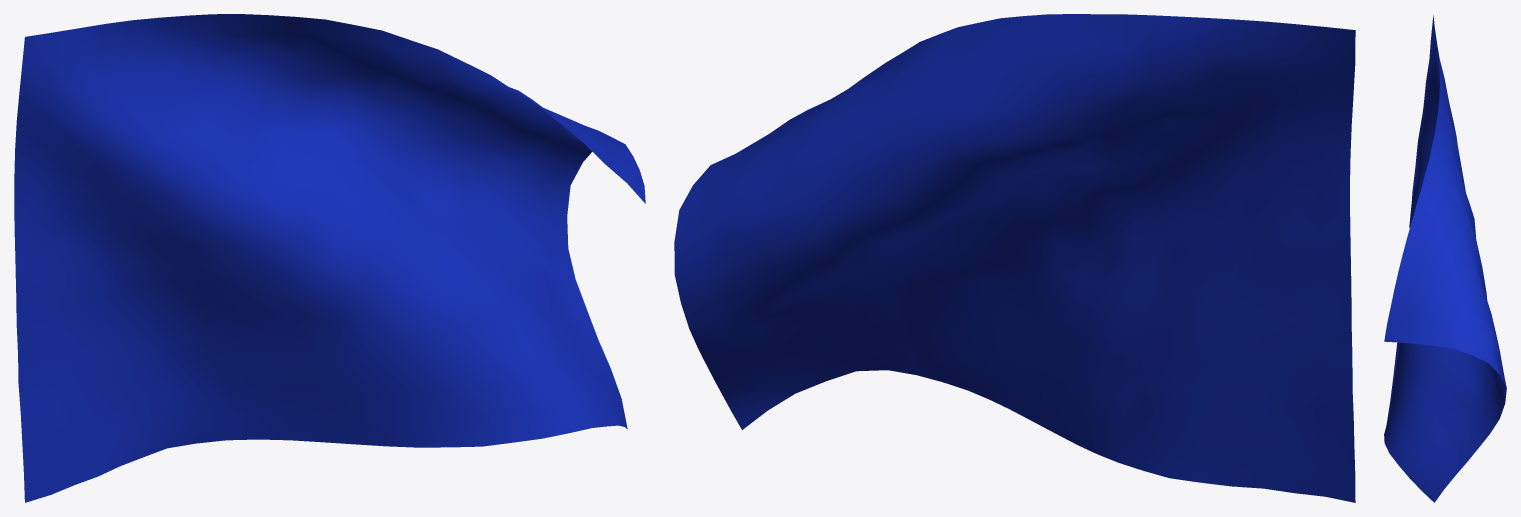
3 views of the same model, side by side, from view 1: azimuth 30°, elevation 25°; view 2: azimuth 150°, elevation 25°; view 3: azimuth 270°, elevation 25° (orthographic). The views are drawn at different scales.
Visible parts, largest first — view 1: Flag ShapeKeys_2_4_7; view 2: Flag ShapeKeys_2_4_7; view 3: Flag ShapeKeys_2_4_7.
Boxes of the visible parts, x1,y1,x2,y2 form: Flag ShapeKeys_2_4_7: (14,14,645,502); Flag ShapeKeys_2_4_7: (674,14,1355,502); Flag ShapeKeys_2_4_7: (1384,15,1506,502).
Size of the model in its own units: 2.8 by 2.32 by 0.8164.
1 material, 1 textured.
